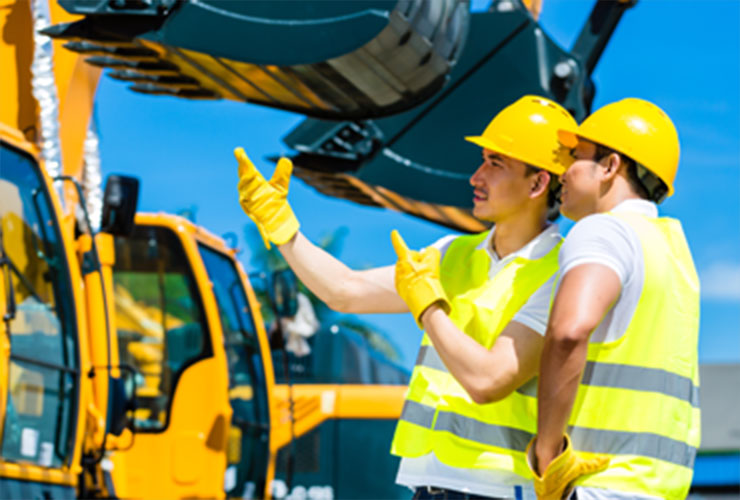casco: (556, 96, 682, 203), (463, 93, 581, 177)
